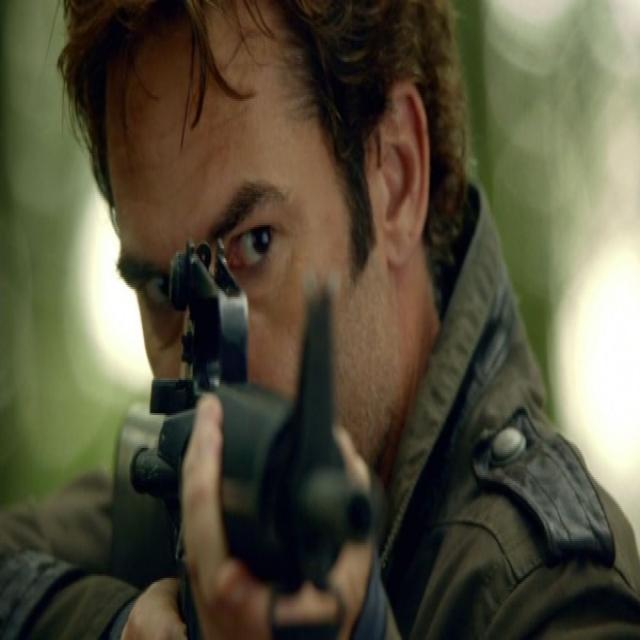rifle: (129, 234, 377, 589)
